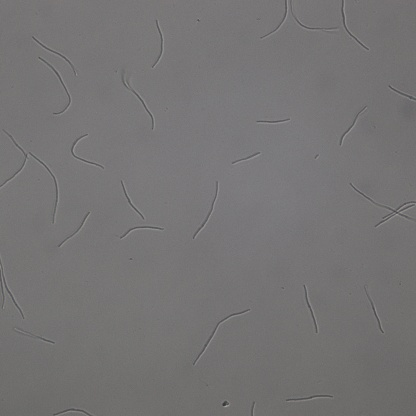Sensitive: (193, 309, 250, 364), (349, 182, 416, 227), (30, 151, 59, 223), (39, 57, 72, 115), (122, 72, 154, 128), (1, 129, 28, 188), (33, 37, 76, 74), (290, 1, 340, 31), (194, 181, 219, 238), (340, 1, 368, 50), (1, 262, 24, 316), (71, 134, 104, 168), (340, 106, 367, 145), (261, 1, 288, 38), (60, 213, 90, 246), (363, 285, 382, 332), (121, 181, 144, 219), (15, 327, 56, 344), (303, 286, 317, 331), (120, 225, 163, 238), (388, 85, 416, 104), (152, 20, 163, 67), (286, 394, 332, 402), (50, 408, 96, 416), (232, 152, 261, 163), (255, 117, 293, 123)
